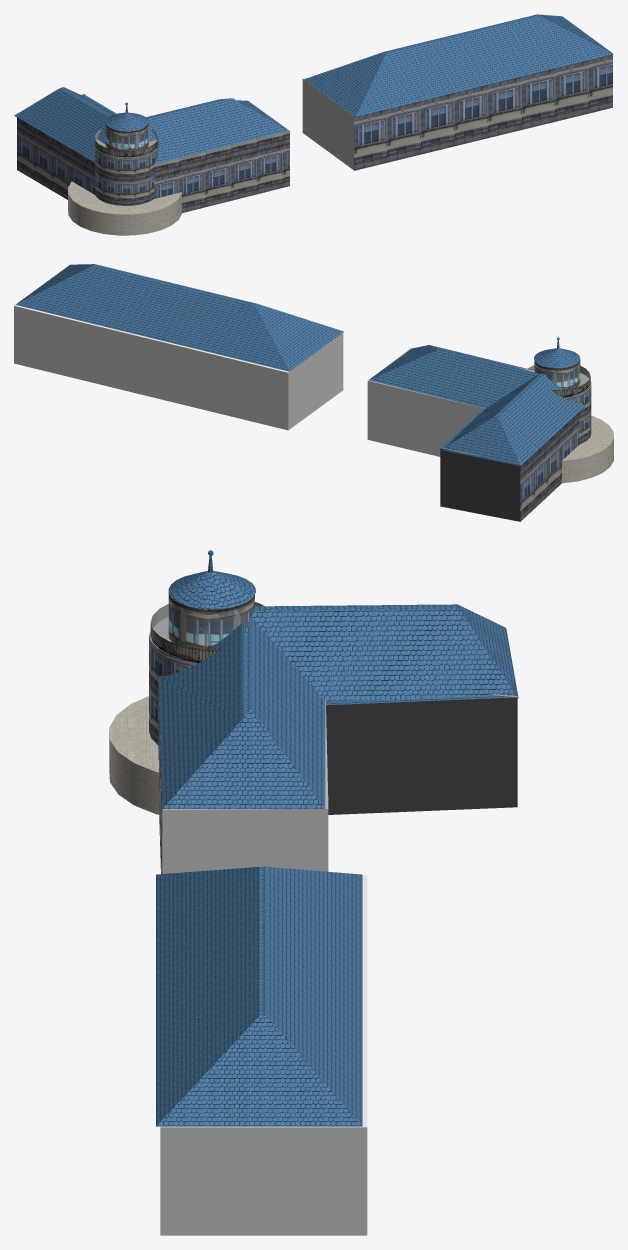
File: LecuClub.gltf
3 views of the same model, one above another, from view 1: azimuth 30°, elevation 25°; view 2: azimuth 150°, elevation 25°; view 3: azimuth 270°, elevation 25° (orthographic). The views are drawn at different scales.
Parts seen in each view (by area): view 1: group_3, SketchUp.029, SketchUp.016, SketchUp.008, SketchUp.006, group_1, SketchUp.012, SketchUp.001, SketchUp.028, SketchUp.005, SketchUp.018, group_0; view 2: SketchUp.028, group_3, group_1, SketchUp.008, SketchUp.015, SketchUp.011, SketchUp.012, SketchUp.006, SketchUp.005, SketchUp.018, SketchUp.001, SketchUp.030 (+1 smaller); view 3: group_3, SketchUp.008, SketchUp.028, SketchUp.011, group_1, SketchUp.015, SketchUp.006, SketchUp.005, SketchUp.018, SketchUp.030, SketchUp.001, group_0.
Boxes of the visible parts, x1,y1,x2,y2 form: group_3: (304,14,613,116); SketchUp.029: (354,54,612,170); SketchUp.016: (154,130,289,212); SketchUp.008: (146,98,288,164); SketchUp.006: (68,181,181,235); group_1: (14,87,114,160); SketchUp.012: (17,117,95,199); SketchUp.001: (94,145,158,205); SketchUp.028: (302,79,354,170); SketchUp.005: (105,123,148,150); SketchUp.018: (105,112,148,131); group_0: (94,129,158,157); SketchUp.028: (14,306,343,430); group_3: (15,264,343,371); group_1: (441,373,584,465); SketchUp.008: (369,345,538,408); SketchUp.015: (367,348,485,456); SketchUp.011: (440,448,520,521); SketchUp.012: (520,412,579,521); SketchUp.006: (562,415,613,483); SketchUp.005: (534,360,580,389); SketchUp.018: (534,348,580,368); SketchUp.001: (564,383,591,444); SketchUp.030: (14,305,337,372); group_3: (156,866,362,1126); SketchUp.008: (158,617,325,808); SketchUp.028: (160,1127,367,1235); SketchUp.011: (326,697,517,814); group_1: (244,604,518,700); SketchUp.015: (161,700,328,873); SketchUp.006: (109,696,159,814); SketchUp.005: (168,591,254,648); SketchUp.018: (168,571,255,609); SketchUp.030: (160,875,367,1127); SketchUp.001: (149,635,196,744); group_0: (150,602,264,663).
Size of the model in its own units: 95.08 by 19.62 by 32.32.
